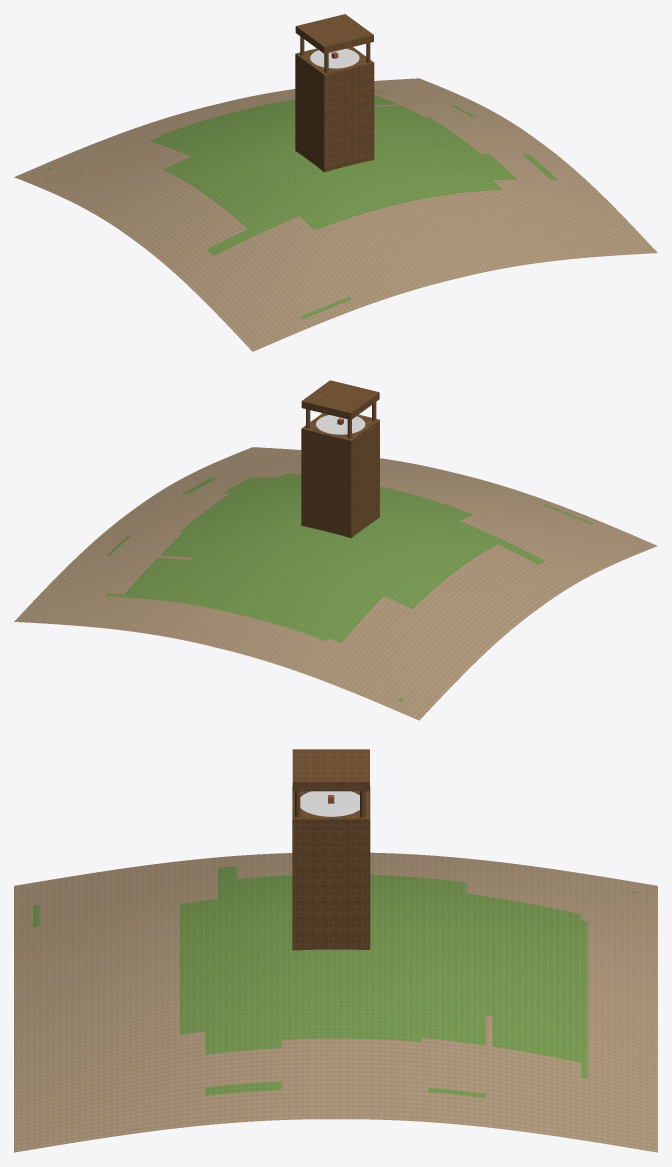
File: OPMap2.gltf
3 renders of one model, top to bottom at view 1: azimuth 30°, elevation 25°; view 2: azimuth 150°, elevation 25°; view 3: azimuth 270°, elevation 25°, orthographic. The views are drawn at different scales.
Visible parts, largest first — view 1: map, Cube, Cylinder.004; view 2: map, Cube, Cylinder.004; view 3: map, Cube, Cylinder.004.
Boxes of the visible parts, x1,y1,x2,y2 form: map: (14,78,657,351); Cube: (295,14,374,172); Cylinder.004: (310,48,359,68); map: (14,447,657,720); Cube: (301,380,379,537); Cylinder.004: (316,415,365,434); map: (14,852,657,1152); Cube: (292,749,370,950); Cylinder.004: (300,791,359,816).
Bounding box in the file's own units: 198 × 87.11 × 202.
4 materials, 4 textured.
